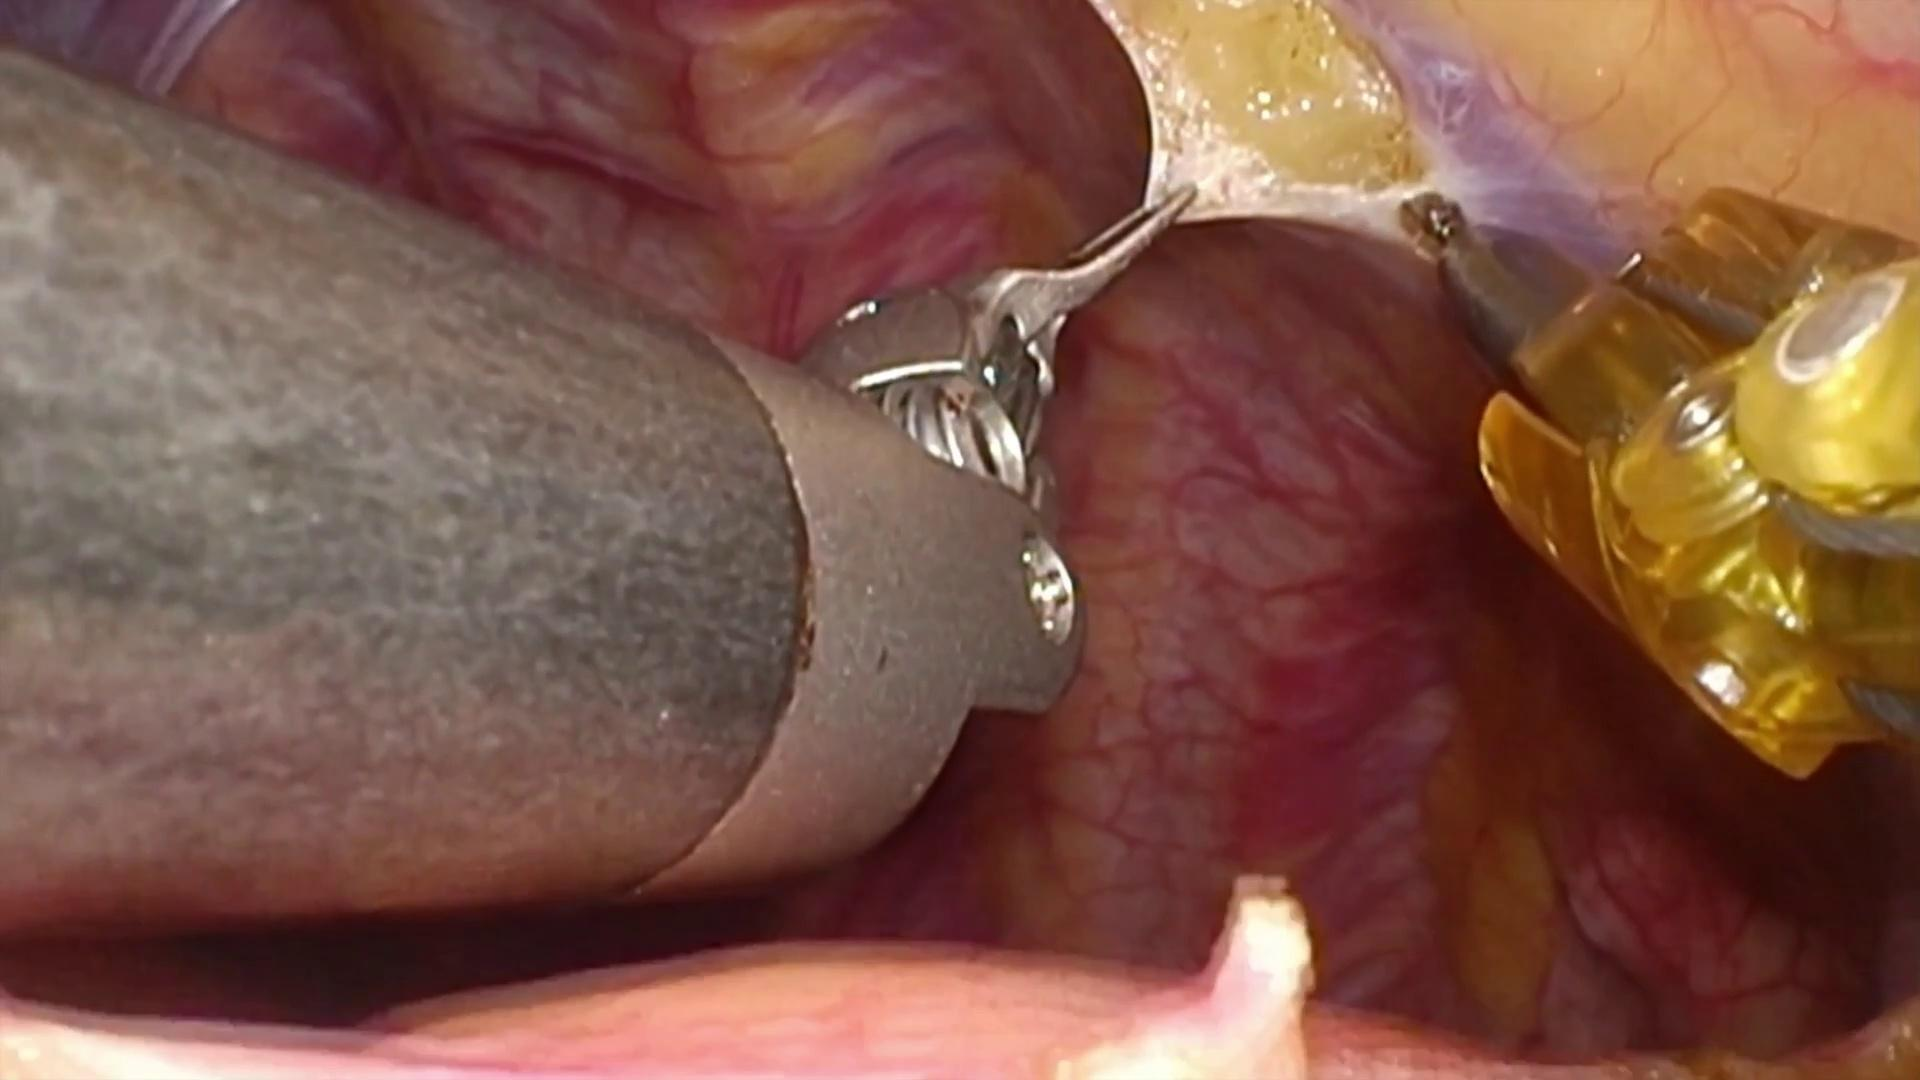Cautery_Spatula: (1398, 186, 1600, 359), (1393, 189, 1473, 262)
Debakey: (967, 178, 1203, 417)
